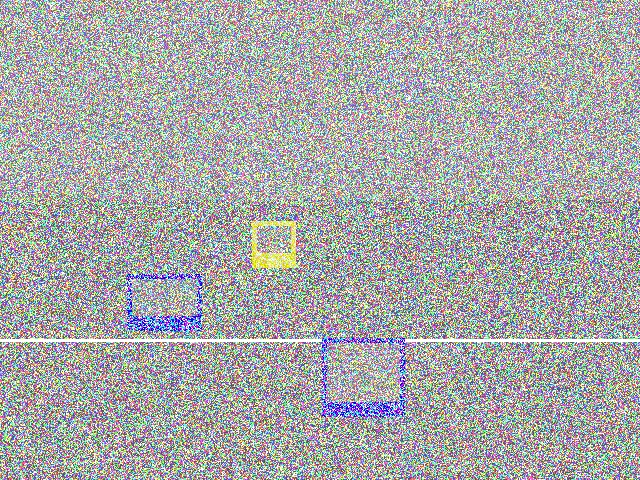motorcycle: (271, 295, 406, 375)
